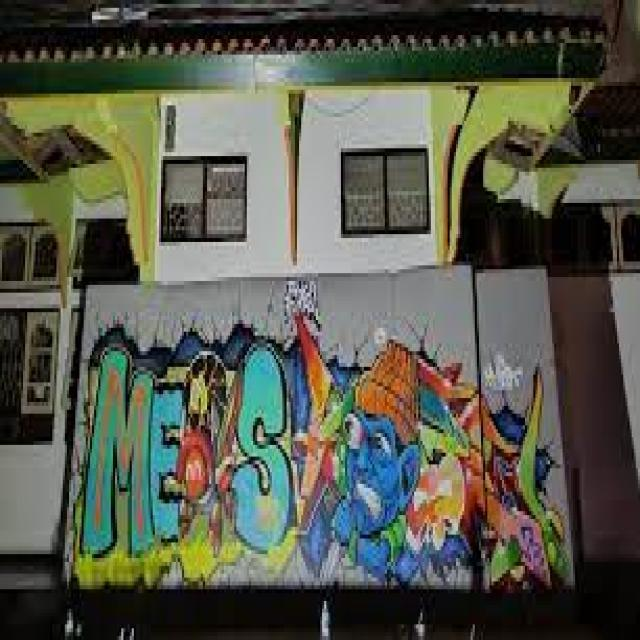-: (77, 338, 567, 588)
